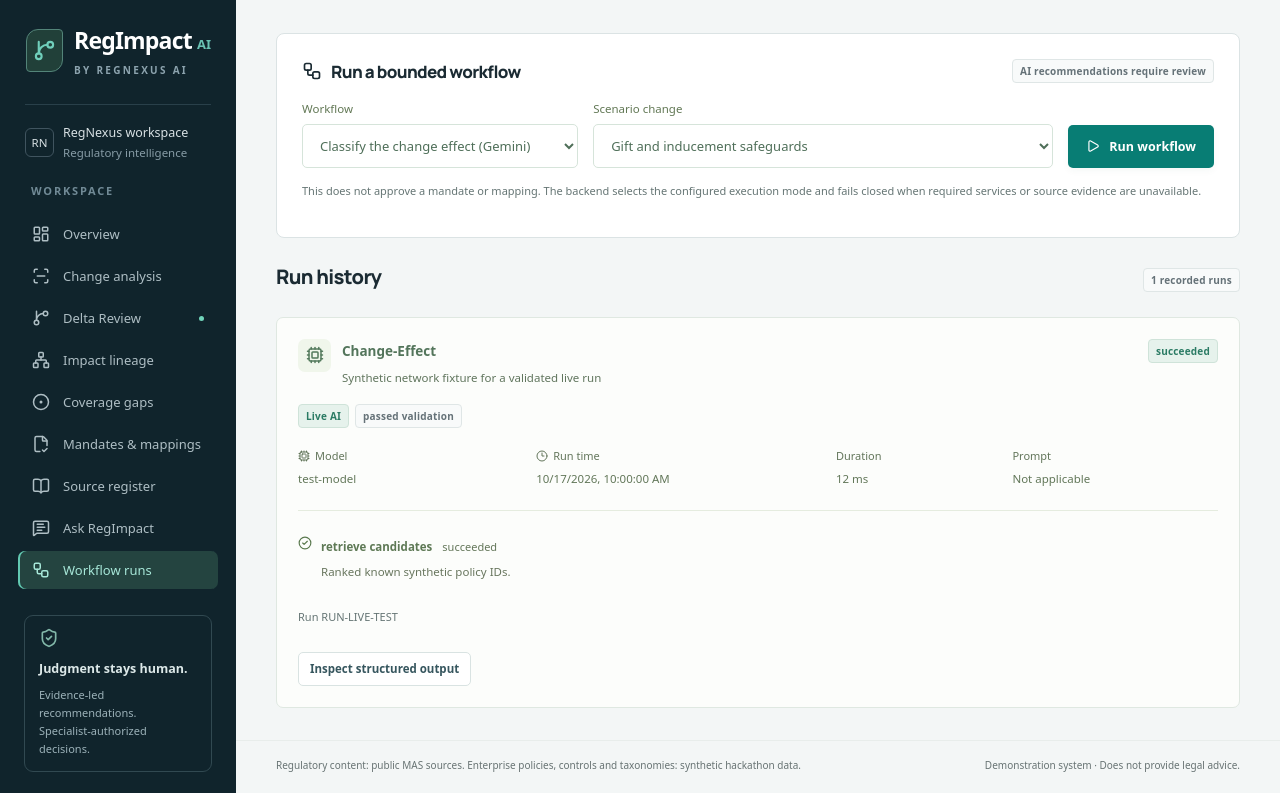
Human review of accepted workflow output › refuses to offer approval for local or unconfigured output
(page scrolled)
Click the button "Inspect structured output": click(385, 669) [298,652,471,686]
(page scrolled)
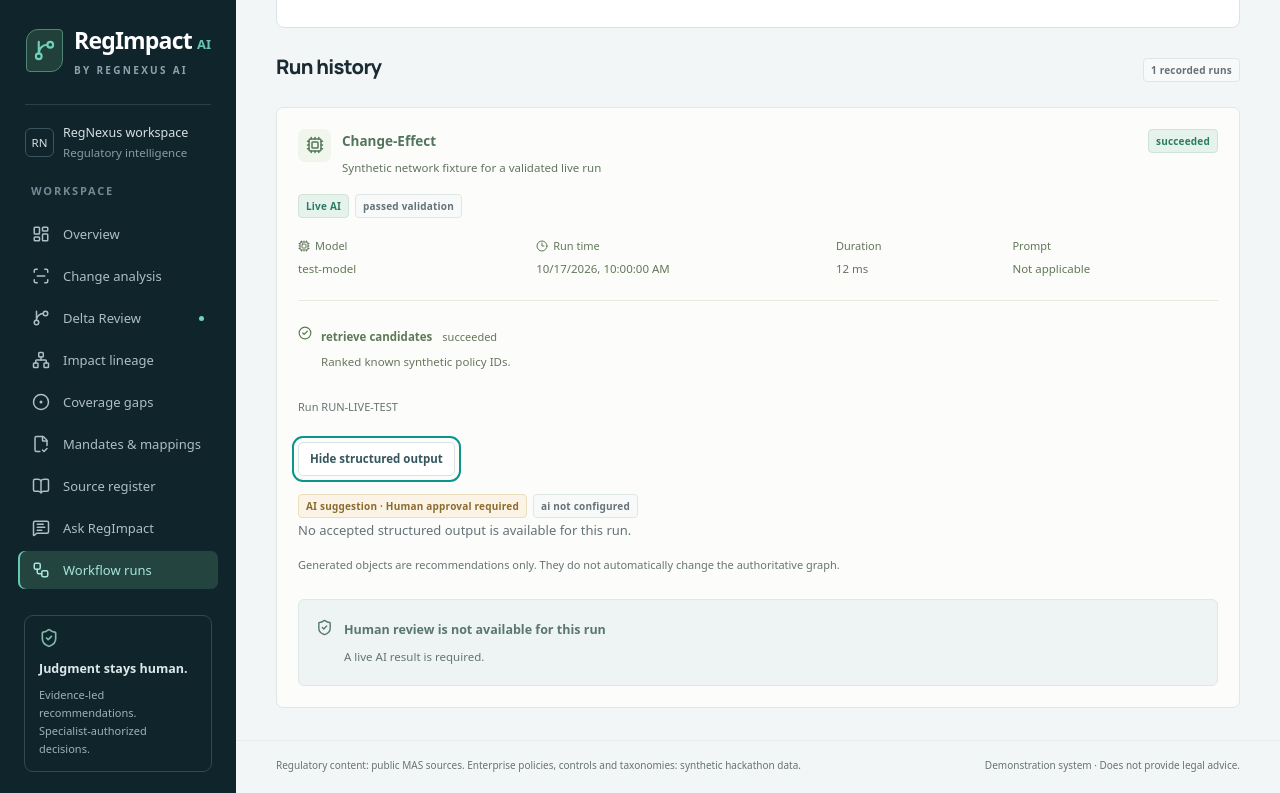
expect the text "A live AI result is required." is shown: met, box [344,650,484,664]
